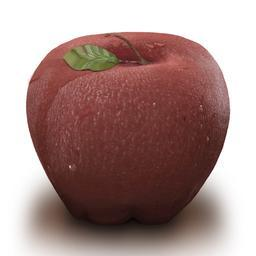apple: (22, 31, 229, 226)
